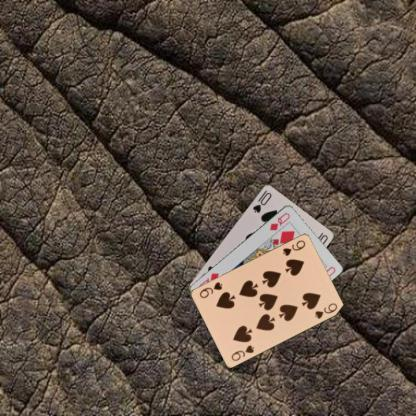10s: (250, 189, 273, 214)
9s: (228, 342, 256, 362), (280, 237, 307, 257)
Qd: (266, 209, 291, 232)
